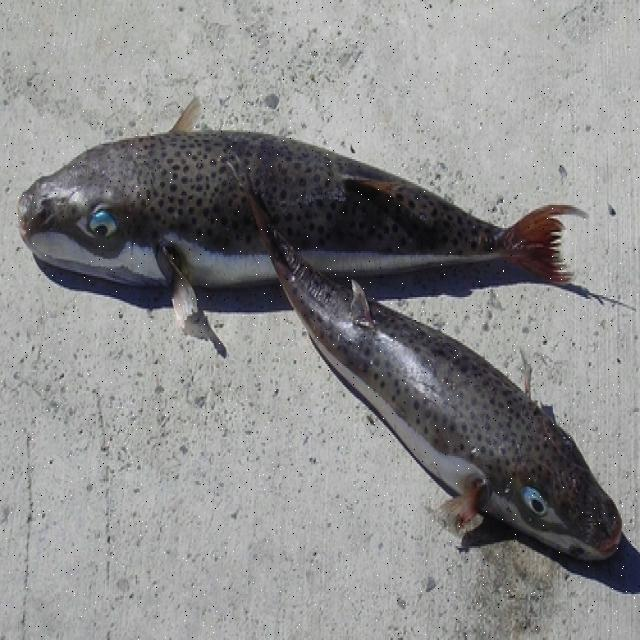Balik: (239, 175, 622, 559), (18, 102, 574, 316)
